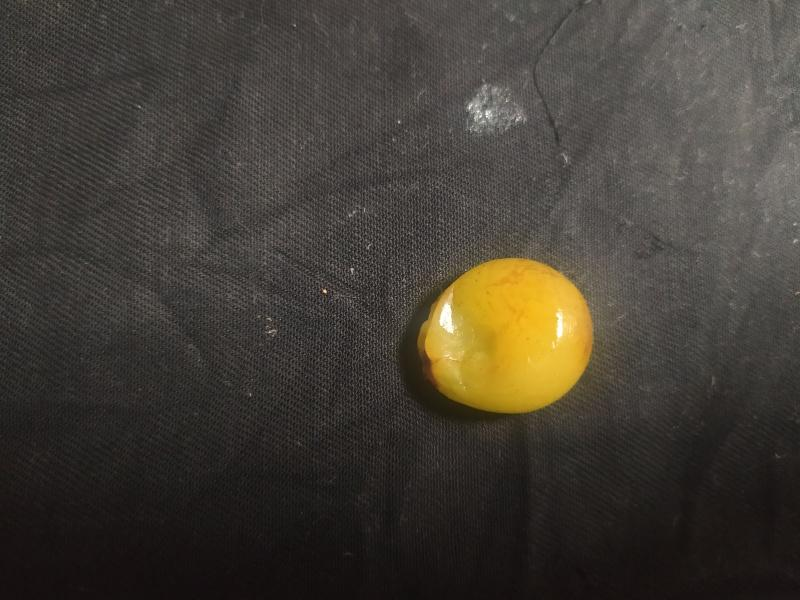Grape Overripe: (413, 253, 597, 416)
